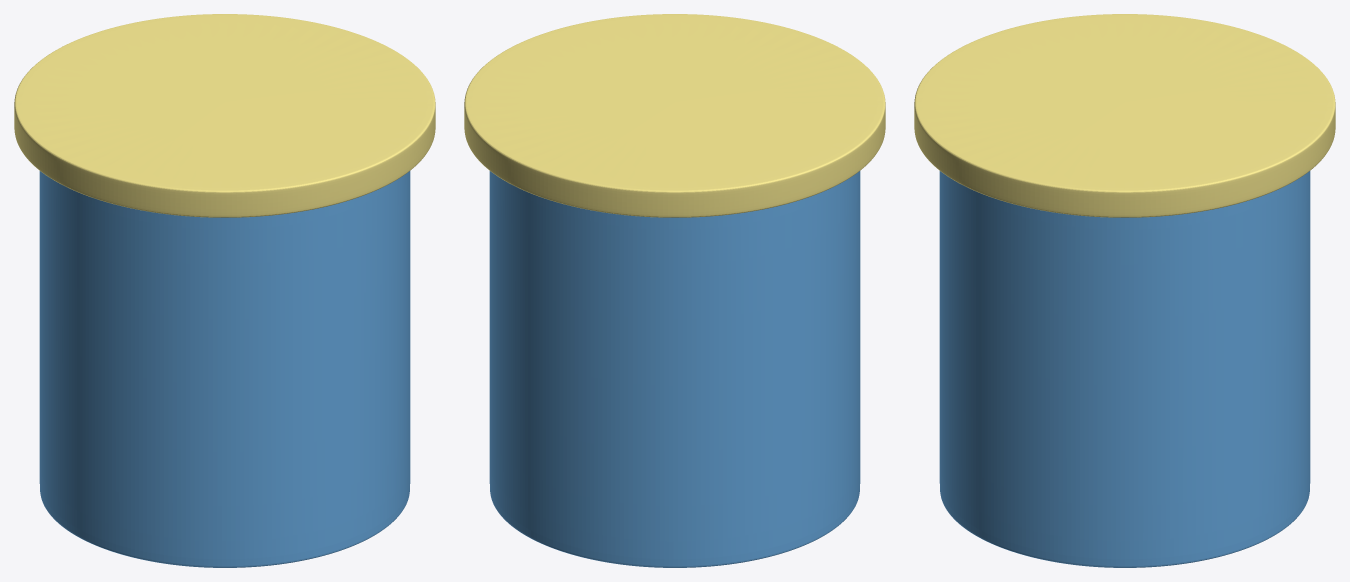
Rendered from Toy_Tower_Hi.fbx.
The picture shows the model from 3 angles, left to right: view 1: azimuth 30°, elevation 25°; view 2: azimuth 150°, elevation 25°; view 3: azimuth 270°, elevation 25°; orthographic projection.
Parts seen in each view (by area): view 1: Cylinder, Cylinder.001; view 2: Cylinder, Cylinder.001; view 3: Cylinder, Cylinder.001.
Part boxes in pixels (<box>): Cylinder: <box>39,171,410,567</box>; Cylinder.001: <box>14,14,435,217</box>; Cylinder: <box>489,171,860,567</box>; Cylinder.001: <box>464,14,885,217</box>; Cylinder: <box>939,171,1310,567</box>; Cylinder.001: <box>914,14,1335,217</box>.
Size of the model in its own units: 2.5 by 2.54 by 2.5.
